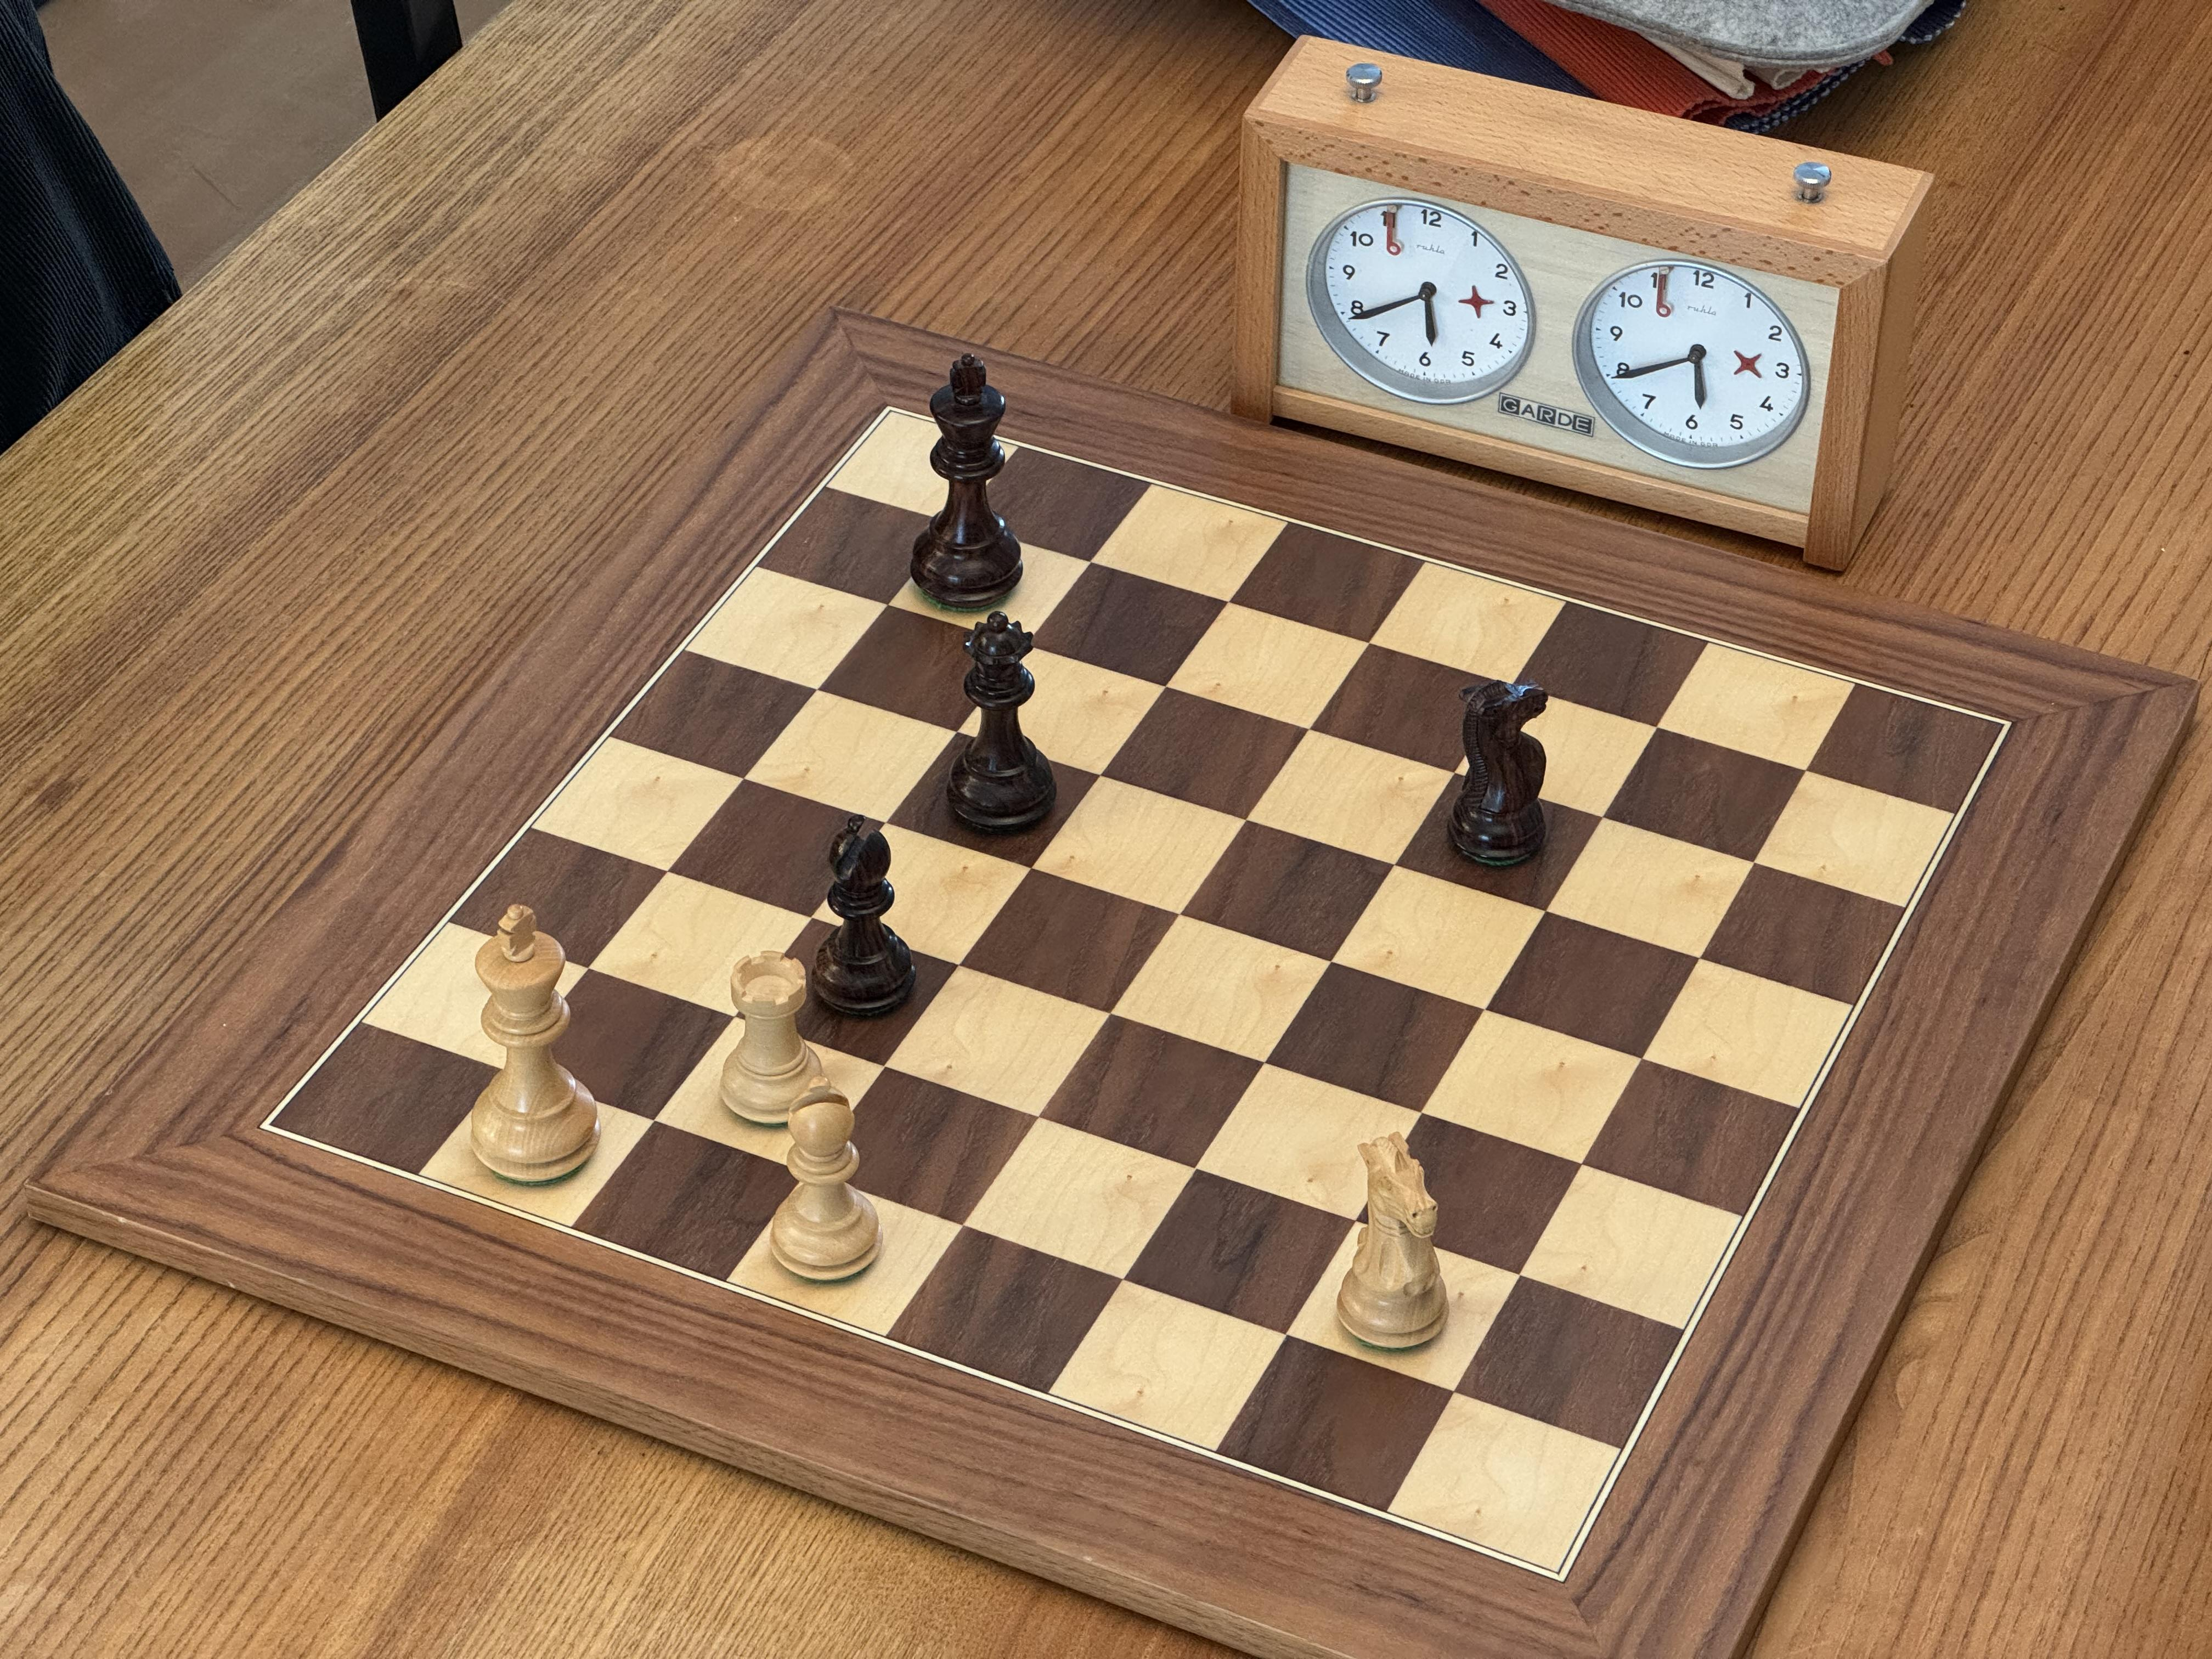Black Bishop: (805, 803, 927, 1018)
Black King: (902, 347, 1033, 619)
Black Knight: (1442, 667, 1562, 873)
Black Queen: (939, 599, 1061, 838)
White Bishop: (763, 1072, 887, 1290)
White King: (465, 896, 608, 1194)
White Knight: (1331, 1121, 1458, 1361)
White Rook: (712, 946, 841, 1134)
